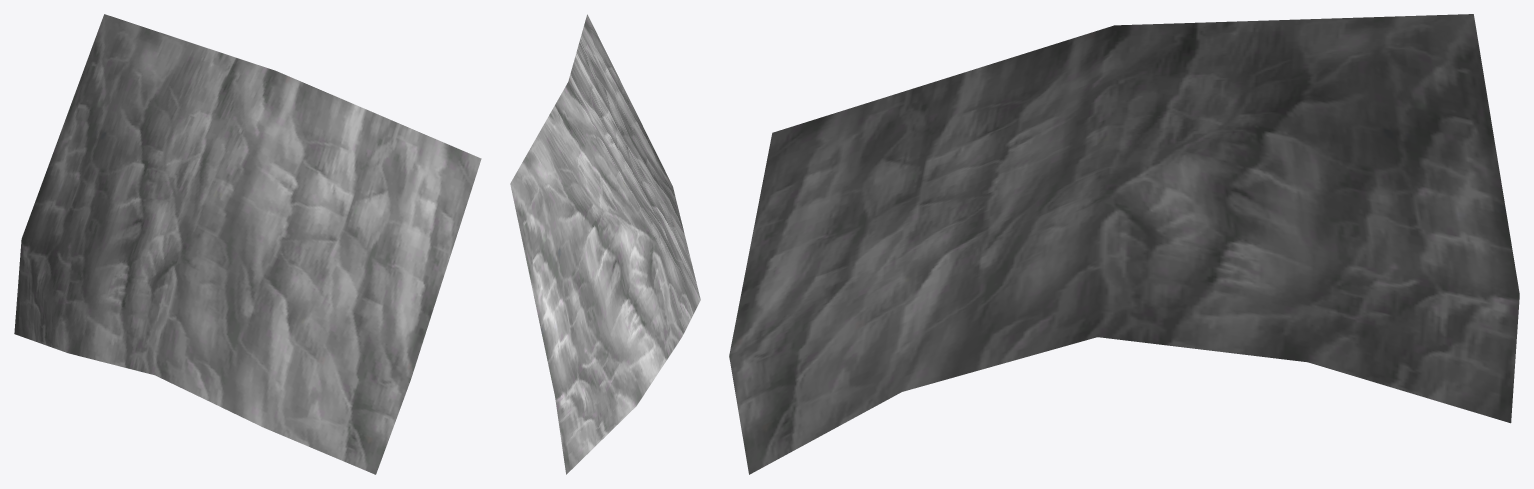
Rendered from SWORDLIGHT20_PS-AREA03_78.fbx.
3 views of the same model, side by side, from view 1: azimuth 30°, elevation 25°; view 2: azimuth 150°, elevation 25°; view 3: azimuth 270°, elevation 25° (orthographic). The views are drawn at different scales.
Parts seen in each view (by area): view 1: SWORDLIGHT20_PS-AREA03_78; view 2: SWORDLIGHT20_PS-AREA03_78; view 3: SWORDLIGHT20_PS-AREA03_78.
Boxes of the visible parts, x1=… form: SWORDLIGHT20_PS-AREA03_78: x1=14, y1=14, x2=481, y2=474; SWORDLIGHT20_PS-AREA03_78: x1=510, y1=14, x2=700, y2=474; SWORDLIGHT20_PS-AREA03_78: x1=729, y1=14, x2=1519, y2=474.
Size of the model in its own units: 40703 by 54231 by 78804.
Materials: 1 (1 with a texture image).
